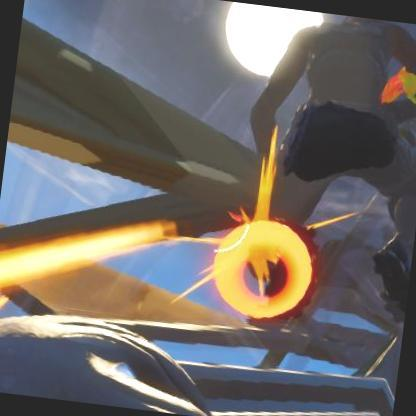person: (238, 30, 416, 363)
